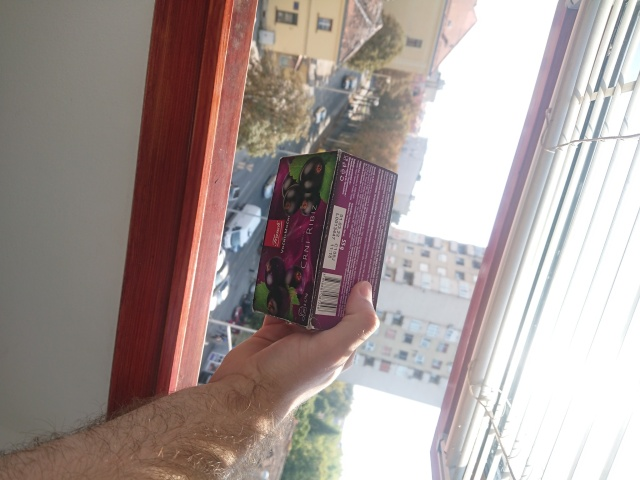Franck Black Currant Tea 60g: (249, 147, 400, 337)
